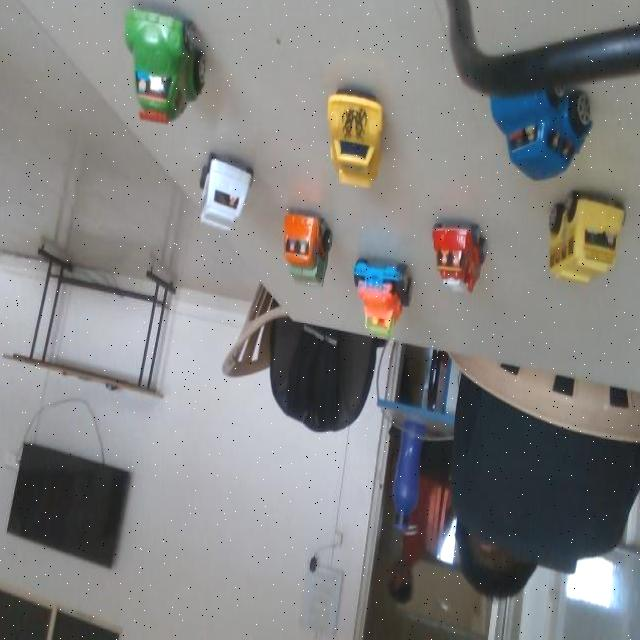car: (59, 0, 242, 162), (268, 57, 428, 204), (166, 130, 267, 253), (347, 251, 426, 350), (487, 74, 564, 174), (271, 193, 334, 303), (422, 209, 481, 293), (537, 199, 599, 270)
